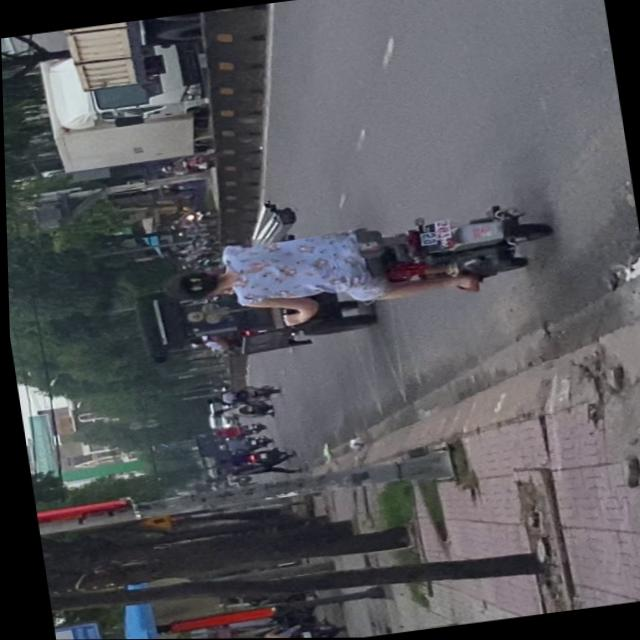licenseplate: (154, 194, 561, 336)
motorcyclist: (160, 263, 237, 304)
